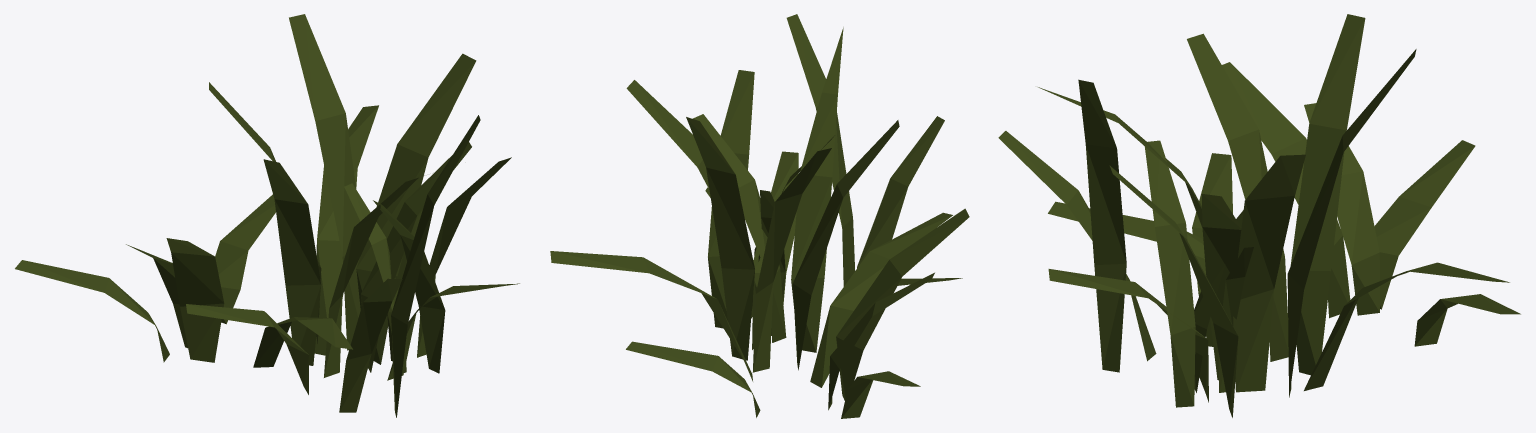
The model's file is SM_Grass_Medium_A.fbx.
3 renders of one model, left to right at view 1: azimuth 30°, elevation 25°; view 2: azimuth 150°, elevation 25°; view 3: azimuth 270°, elevation 25°, orthographic. The views are drawn at different scales.
Parts seen in each view (by area): view 1: grass-medium-a; view 2: grass-medium-a; view 3: grass-medium-a.
Boxes of the visible parts, x1,y1,x2,y2 form: grass-medium-a: (15,14,519,417); grass-medium-a: (550,14,969,418); grass-medium-a: (998,14,1520,417).
Size of the model in its own units: 0.5946 by 0.4491 by 0.6139.
